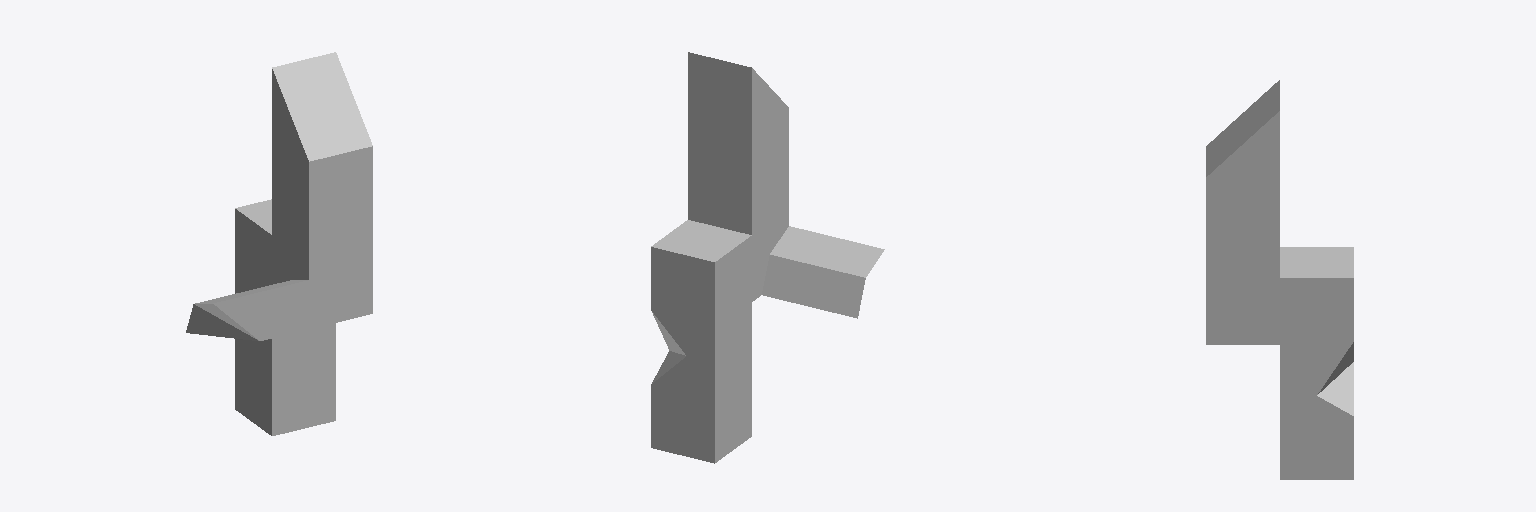
Rendered from Level1_catus_1.obj.
3 renders of one model, left to right at view 1: azimuth 30°, elevation 25°; view 2: azimuth 150°, elevation 25°; view 3: azimuth 270°, elevation 25°, orthographic.
Parts seen in each view (by area): view 1: Cactus_1; view 2: Cactus_1; view 3: Cactus_1.
Part boxes in pixels (bbox=[...]): Cactus_1: bbox=[186, 52, 372, 435]; Cactus_1: bbox=[651, 52, 884, 463]; Cactus_1: bbox=[1206, 80, 1353, 479].
Size of the model in its own units: 5 by 11 by 4.